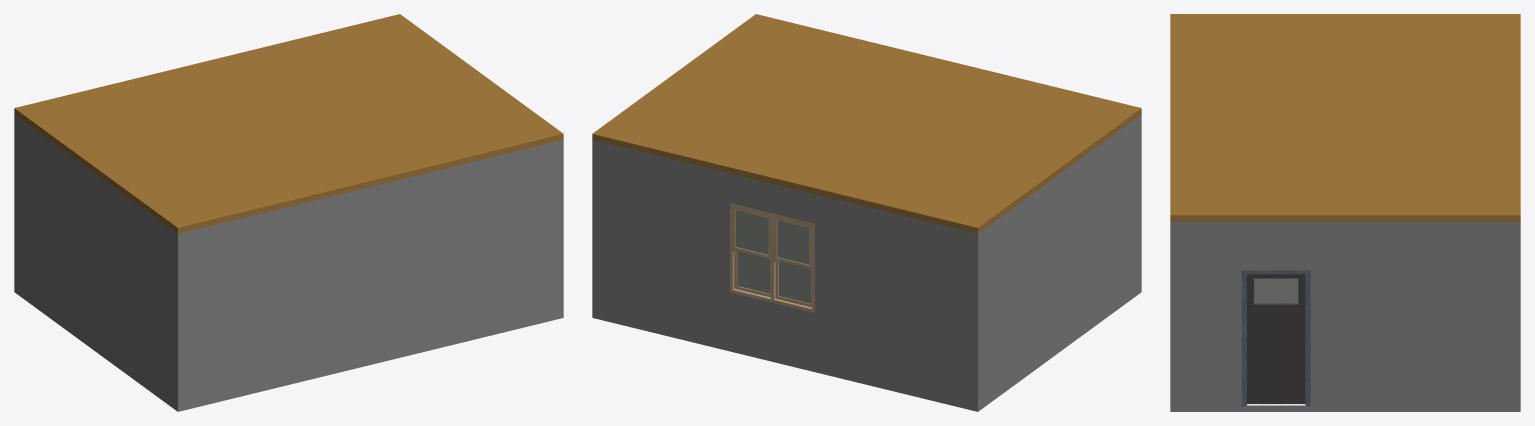
The model's file is room.fbx.
3 views of the same model, side by side, from view 1: azimuth 30°, elevation 25°; view 2: azimuth 150°, elevation 25°; view 3: azimuth 270°, elevation 25° (orthographic). The views are drawn at different scales.
Visible parts, largest first — view 1: STRUCTURAL___BEARING_PAINT___LIGHT_GRAY, STRUCTURAL___BEARING_PAINT___GOLDEN_OCHRE; view 2: STRUCTURAL___BEARING_PAINT___LIGHT_GRAY, STRUCTURAL___BEARING_PAINT___GOLDEN_OCHRE, STRUCTURAL___BEARING_GLASS___CLEAR_FAST, STRUCTURAL___BEARING_WOOD___PINE_GRAINED_HORIZONTAL; view 3: STRUCTURAL___BEARING_PAINT___GOLDEN_OCHRE, STRUCTURAL___BEARING_PAINT___LIGHT_GRAY, STRUCTURAL___BEARING_METAL___ALUMINIUM, STRUCTURAL___BEARING_METAL___IRON, STRUCTURAL___BEARING_GLASS___CLEAR_FAST.
Part boxes in pixels (box(x1,y1,x2,y2)): STRUCTURAL___BEARING_PAINT___LIGHT_GRAY: box(14, 114, 563, 411); STRUCTURAL___BEARING_PAINT___GOLDEN_OCHRE: box(14, 14, 563, 233); STRUCTURAL___BEARING_PAINT___LIGHT_GRAY: box(592, 114, 1141, 411); STRUCTURAL___BEARING_PAINT___GOLDEN_OCHRE: box(592, 14, 1141, 233); STRUCTURAL___BEARING_GLASS___CLEAR_FAST: box(736, 210, 810, 303); STRUCTURAL___BEARING_WOOD___PINE_GRAINED_HORIZONTAL: box(730, 203, 814, 312); STRUCTURAL___BEARING_PAINT___GOLDEN_OCHRE: box(1170, 14, 1520, 221); STRUCTURAL___BEARING_PAINT___LIGHT_GRAY: box(1170, 221, 1520, 411); STRUCTURAL___BEARING_METAL___ALUMINIUM: box(1247, 274, 1305, 403); STRUCTURAL___BEARING_METAL___IRON: box(1241, 269, 1310, 406); STRUCTURAL___BEARING_GLASS___CLEAR_FAST: box(1254, 279, 1297, 303).
Size of the model in its own units: 6.82 by 3.1 by 5.
Materials: 14 (6 with a texture image).
